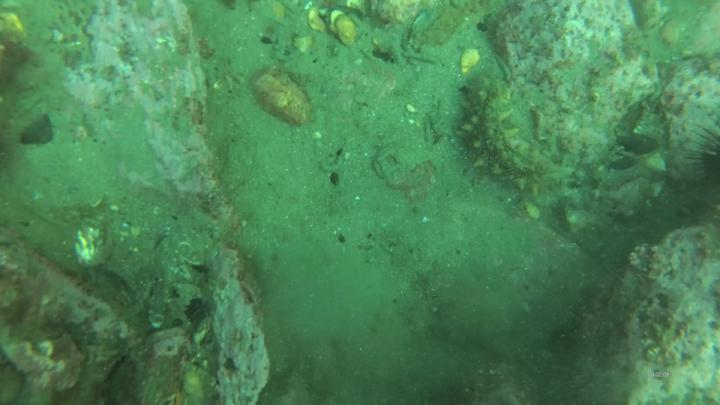holothurian: (464, 84, 550, 194)
scallop: (461, 51, 482, 74)
